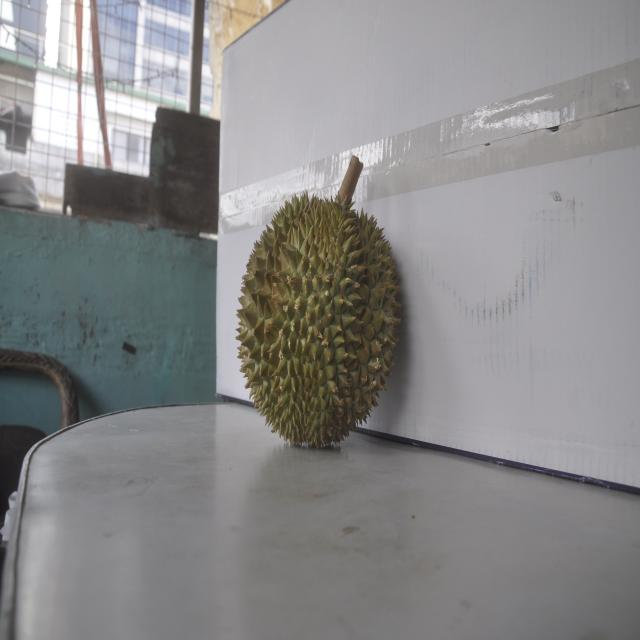mature: (232, 172, 400, 450)
